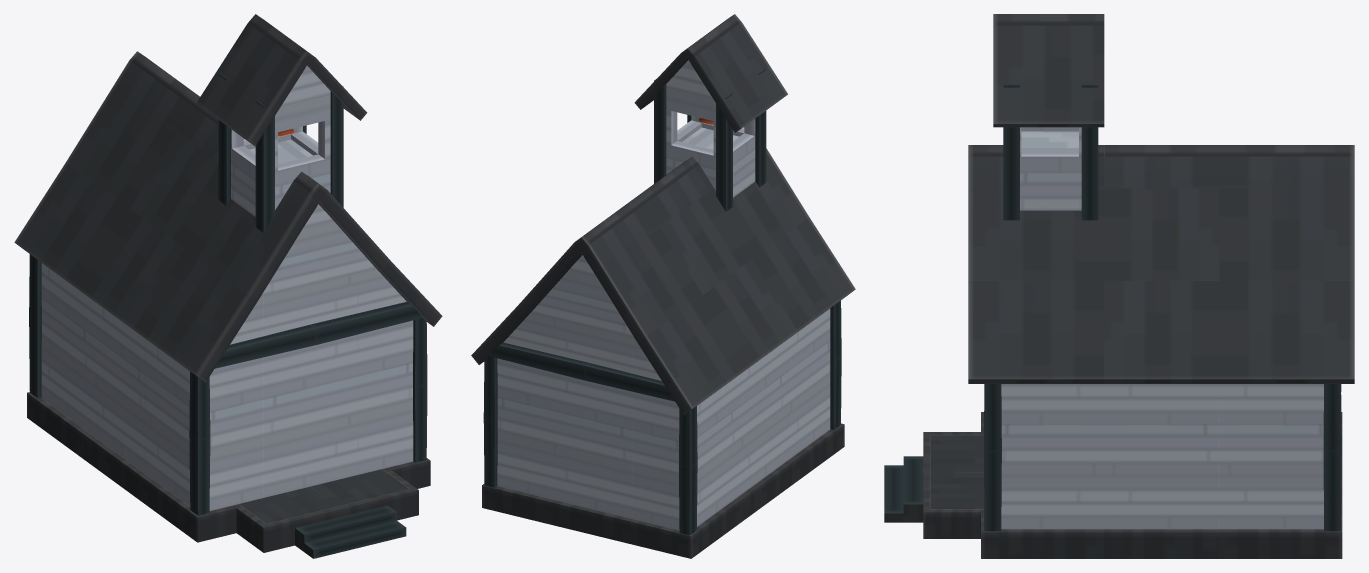
Rendered from church_v003_ncl1_1.fbx.
3 views of the same model, side by side, from view 1: azimuth 30°, elevation 25°; view 2: azimuth 150°, elevation 25°; view 3: azimuth 270°, elevation 25° (orthographic). The views are drawn at different scales.
Visible parts, largest first — view 1: church_v003; view 2: church_v003; view 3: church_v003.
Boxes of the visible parts, x1,y1,x2,y2 form: church_v003: [14, 14, 442, 558]; church_v003: [471, 14, 855, 558]; church_v003: [884, 14, 1354, 558].
Bounding box in the file's own units: 521 × 927 × 816.
